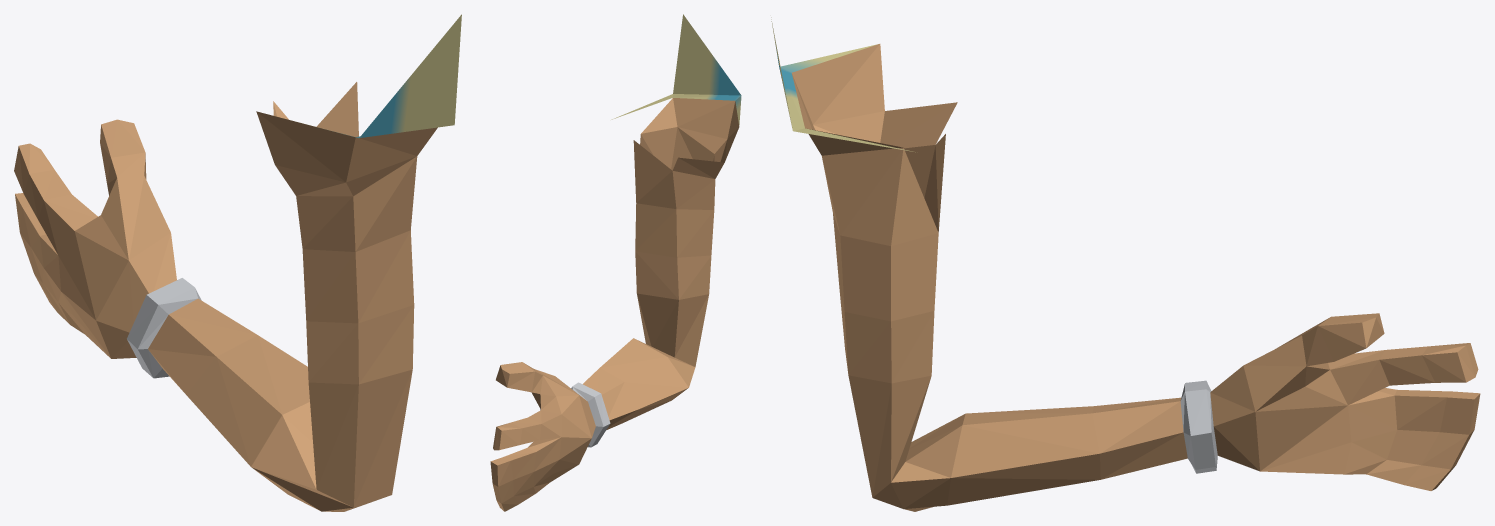
Rendered from Mother_02_ArmL_96_02_B.obj.
3 views of the same model, side by side, from view 1: azimuth 30°, elevation 25°; view 2: azimuth 150°, elevation 25°; view 3: azimuth 270°, elevation 25° (orthographic). The views are drawn at different scales.
Parts seen in each view (by area): view 1: Mother_02_ArmL_96_02_B; view 2: Mother_02_ArmL_96_02_B; view 3: Mother_02_ArmL_96_02_B.
Boxes of the visible parts, left/top/right/bottom form: Mother_02_ArmL_96_02_B: left=14, top=14, right=461, bottom=511; Mother_02_ArmL_96_02_B: left=490, top=14, right=741, bottom=511; Mother_02_ArmL_96_02_B: left=771, top=17, right=1480, bottom=511.
Bounding box in the file's own units: 0.1784 × 0.487 × 0.6055.
Materials: 1 (1 with a texture image).
